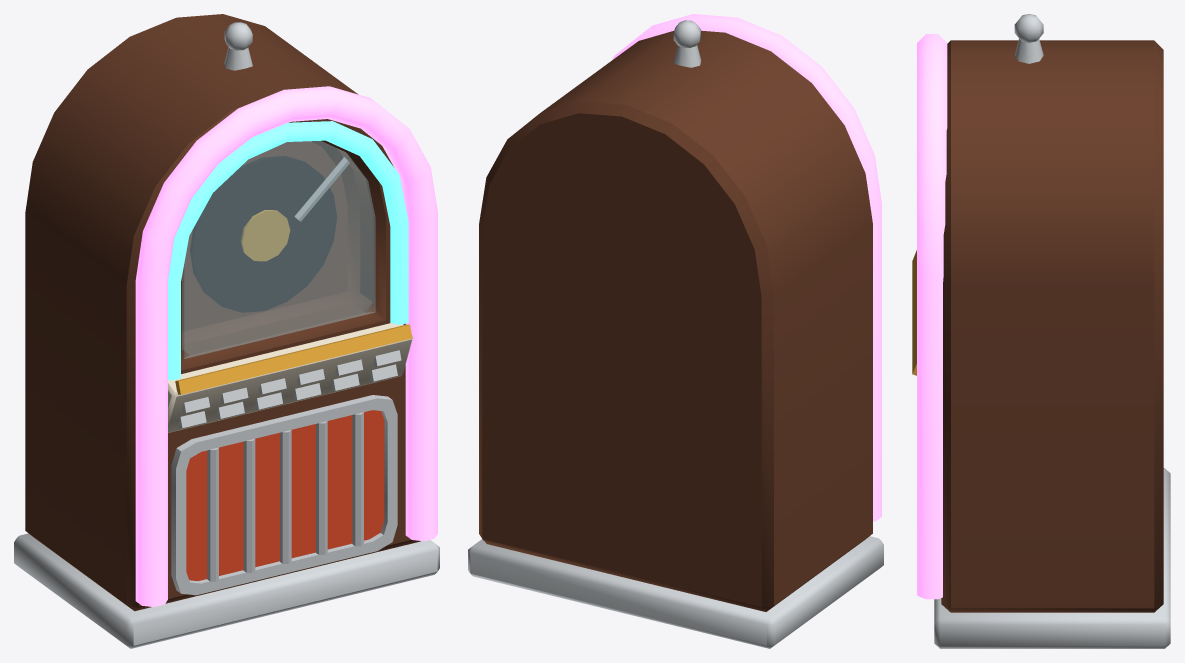
The model's file is Lobby_Jukebox.fbx.
The picture shows the model from 3 angles, left to right: view 1: azimuth 30°, elevation 25°; view 2: azimuth 150°, elevation 25°; view 3: azimuth 270°, elevation 25°; orthographic projection. The views are drawn at different scales.
Parts seen in each view (by area): view 1: Cabinet, Chrome, TubePink, Window, Grille, Record, TubeCyan, Selector, Gold; view 2: Cabinet, Chrome, TubePink; view 3: Cabinet, TubePink, Chrome, Gold.
Boxes of the visible parts, box(x1,y1,x2,y2) form: Cabinet: box(25, 14, 420, 611); Chrome: box(14, 22, 439, 648); TubePink: box(135, 86, 437, 606); Window: box(182, 141, 375, 358); Grille: box(186, 410, 384, 581); Record: box(190, 156, 337, 312); TubeCyan: box(168, 121, 408, 380); Selector: box(168, 323, 413, 432); Gold: box(175, 210, 412, 394); Cabinet: box(479, 30, 872, 611); Chrome: box(468, 20, 883, 648); TubePink: box(612, 14, 881, 521); Cabinet: box(941, 40, 1163, 612); TubePink: box(917, 34, 947, 599); Chrome: box(934, 14, 1170, 648); Gold: box(912, 250, 916, 375).
Size of the model in its own units: 312 by 528 by 221.
